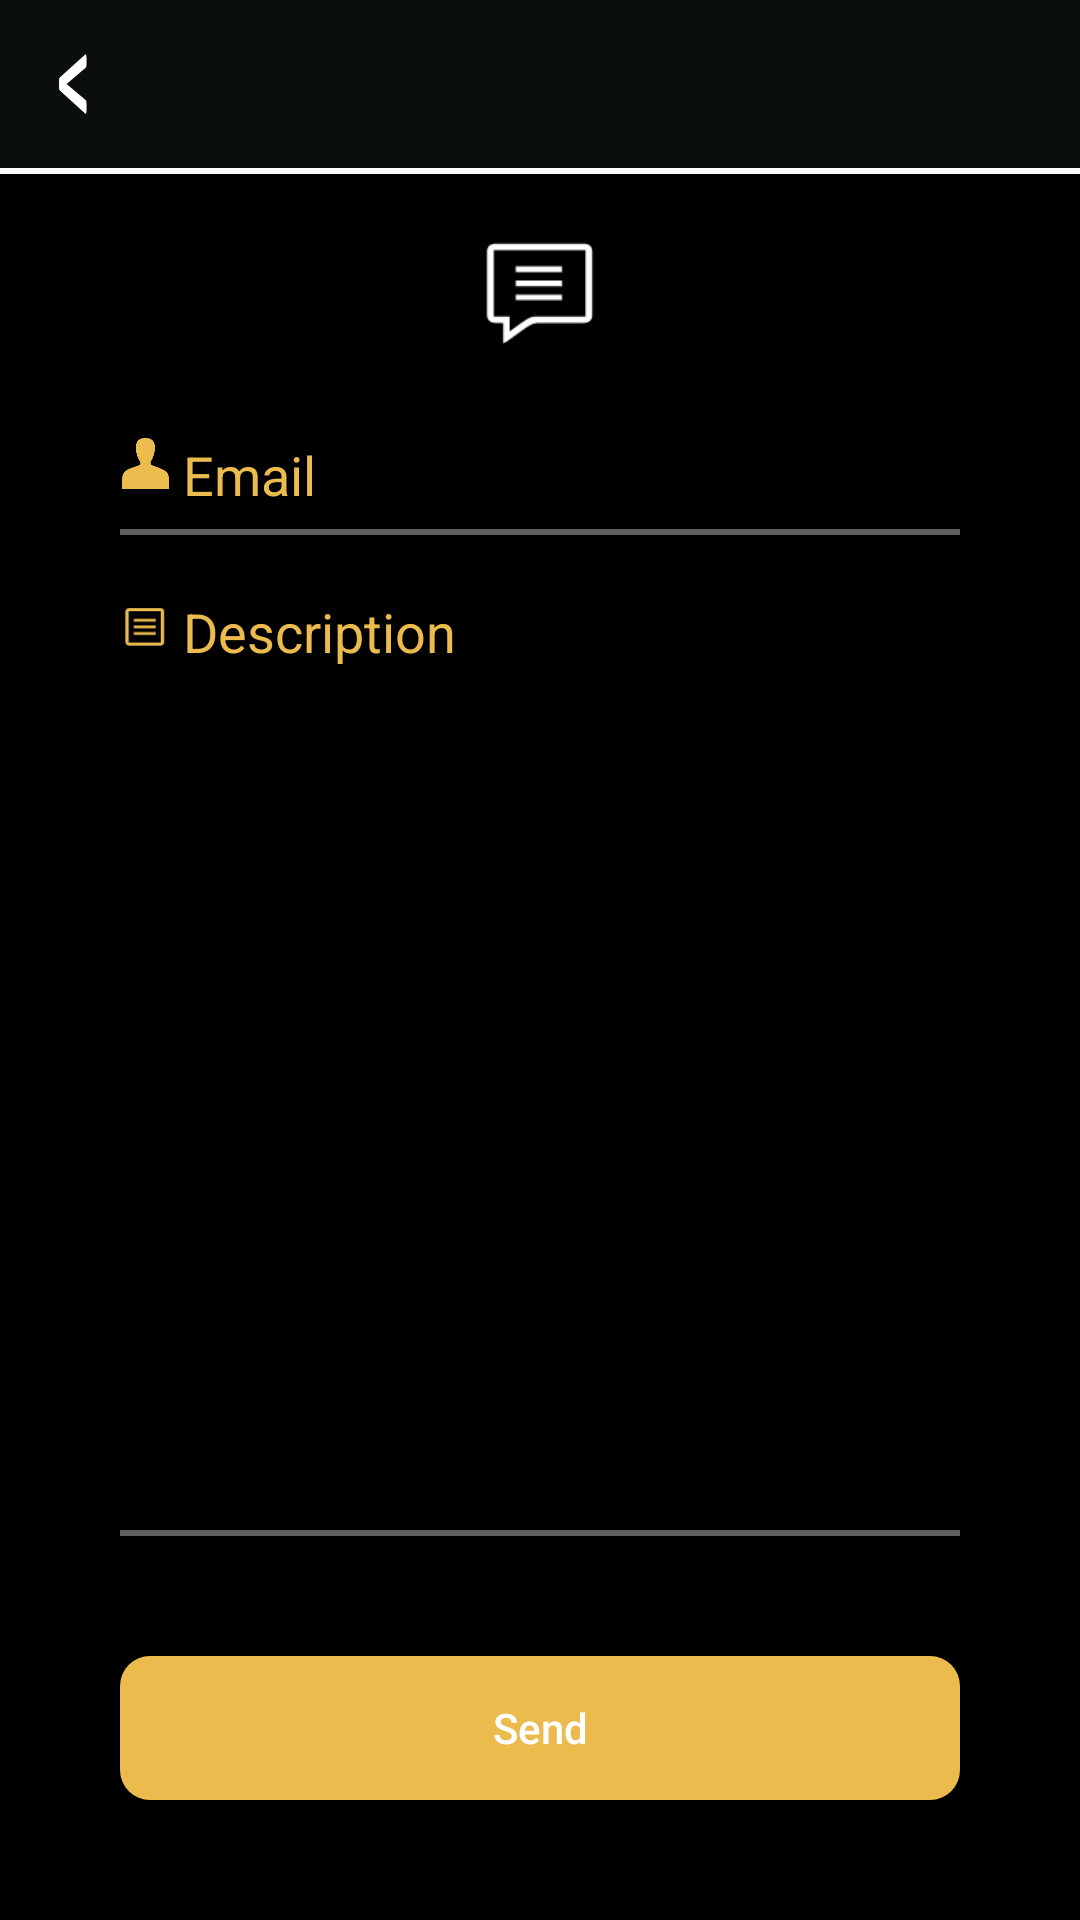

Icons on this 1080 × 1920 Android screen, each with the point to tap as (x,y):
iconback: (73,84)
send feedback: (539,293)
user: (145,463)
